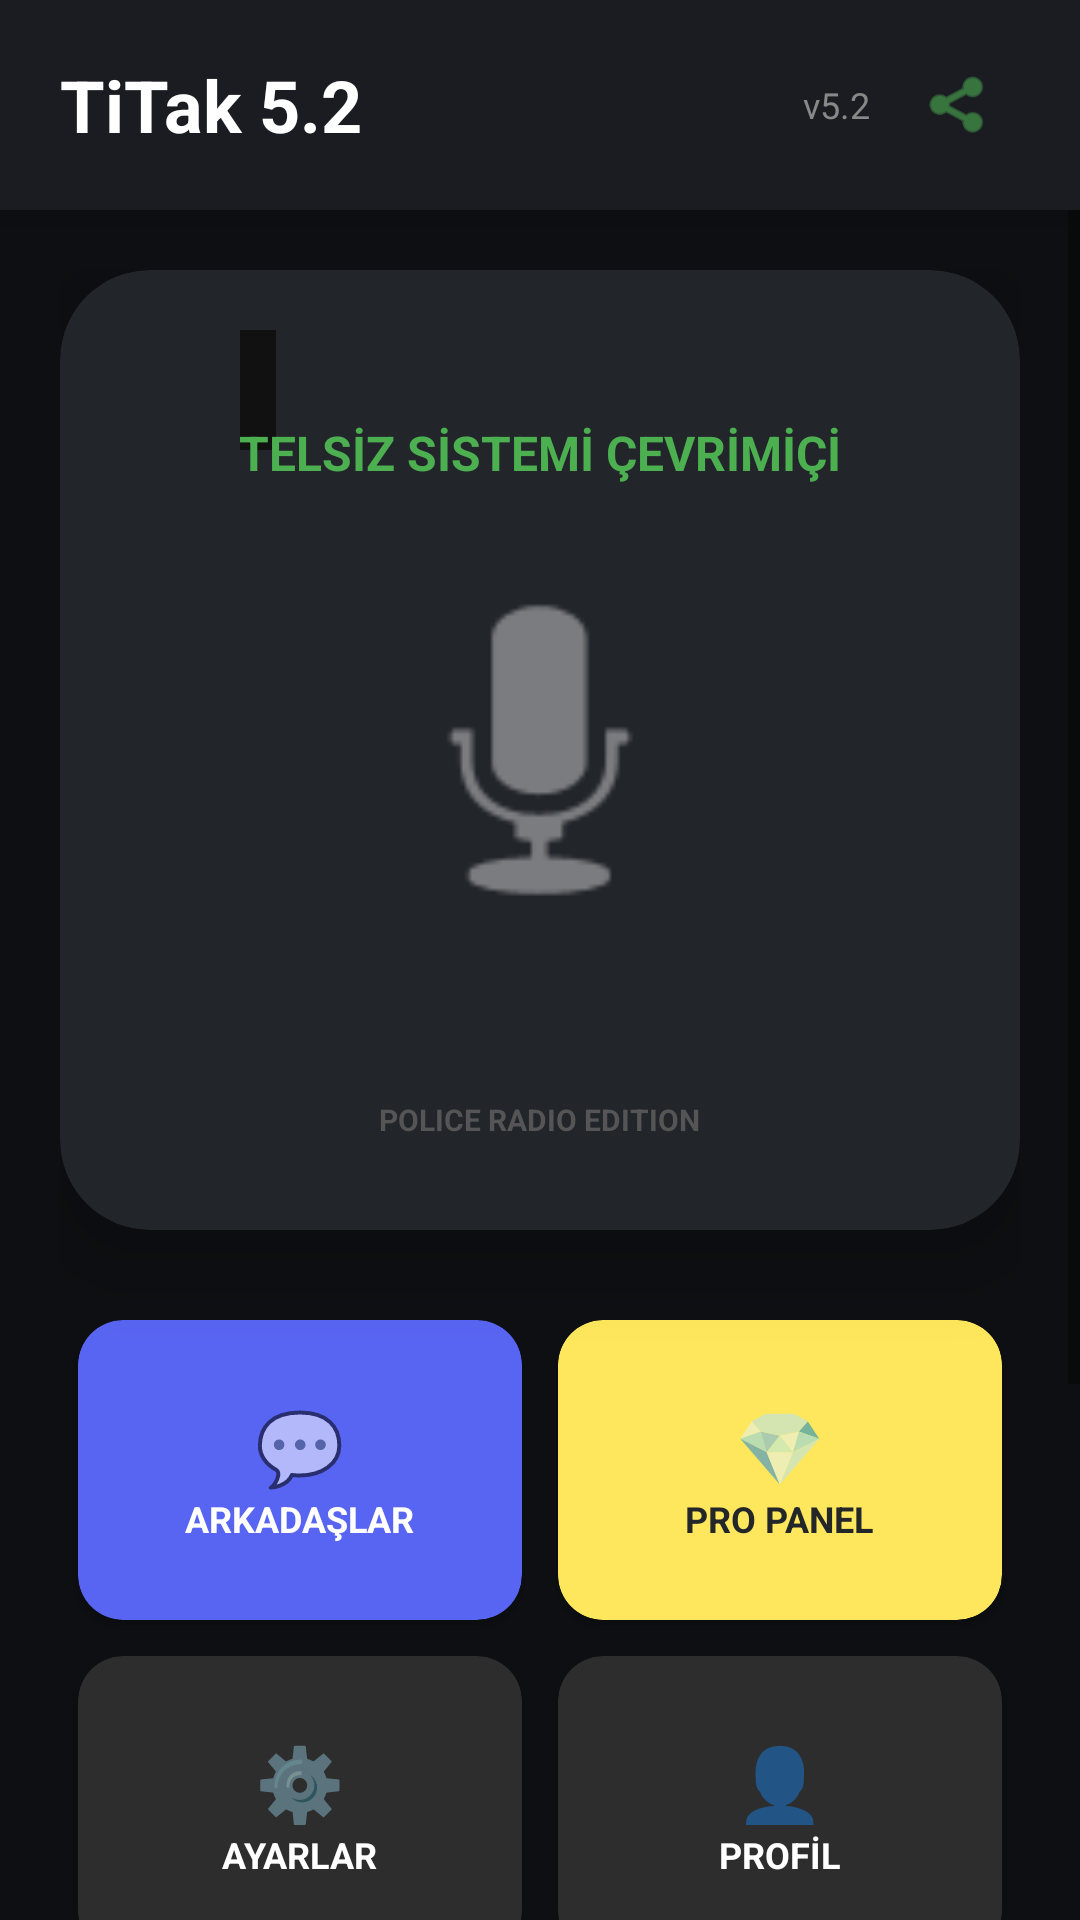

Locate icon controls on the screen. Image size 1080px×1920px, boxes as (x1, y1, x2, y2).
share: (929, 77, 983, 133)
speak now: (449, 605, 630, 895)
